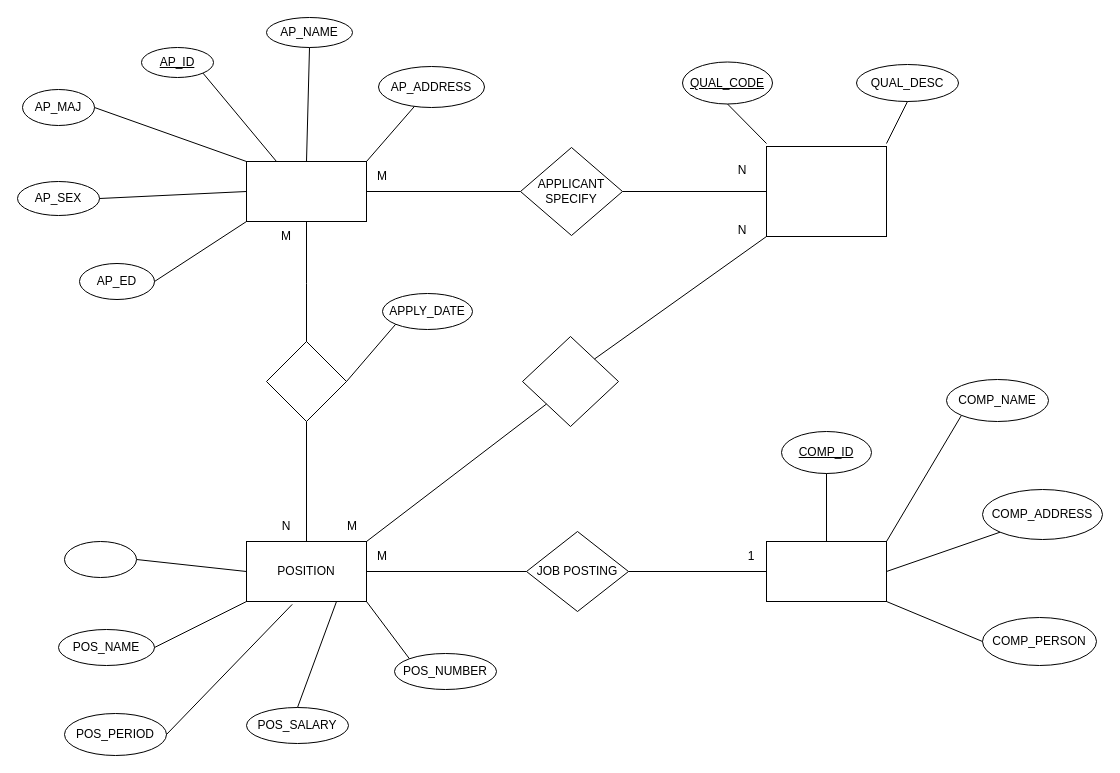
This 1120x773 diagram has some shape labels left out. The shapes that lost their labels are listed below. From the top down, each one's centre as x and y in pixels, then its label:
At [306,191]: "APPLICANT".
At [826,191]: "QUALIFICATION".
At [306,381]: "APPLY".
At [570,381]: "POSITION SPECIFY".
At [100,559]: "POS_ID".
At [826,571]: "COMPANY".
